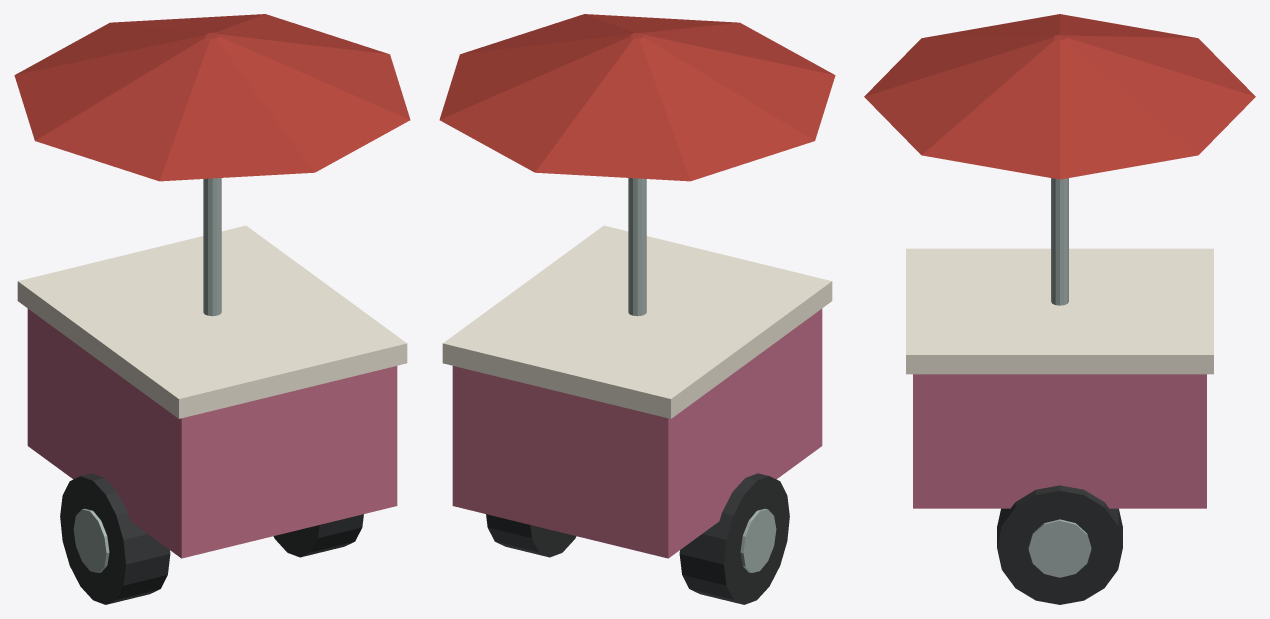
The model's file is 059_ice_cream_pushcart.glb.
3 renders of one model, left to right at view 1: azimuth 30°, elevation 25°; view 2: azimuth 150°, elevation 25°; view 3: azimuth 270°, elevation 25°, orthographic. The views are drawn at different scales.
Parts seen in each view (by area): view 1: Ice cream pushcart; view 2: Ice cream pushcart; view 3: Ice cream pushcart.
Part boxes in pixels (left/top/right/bottom): Ice cream pushcart: left=14, top=14, right=410, bottom=604; Ice cream pushcart: left=439, top=14, right=835, bottom=604; Ice cream pushcart: left=864, top=14, right=1255, bottom=604.
Size of the model in its own units: 1.68 by 2.42 by 1.68.
